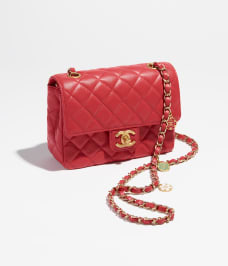channel: (38, 61, 201, 172), (66, 78, 149, 112), (156, 72, 177, 167), (111, 127, 145, 151)
